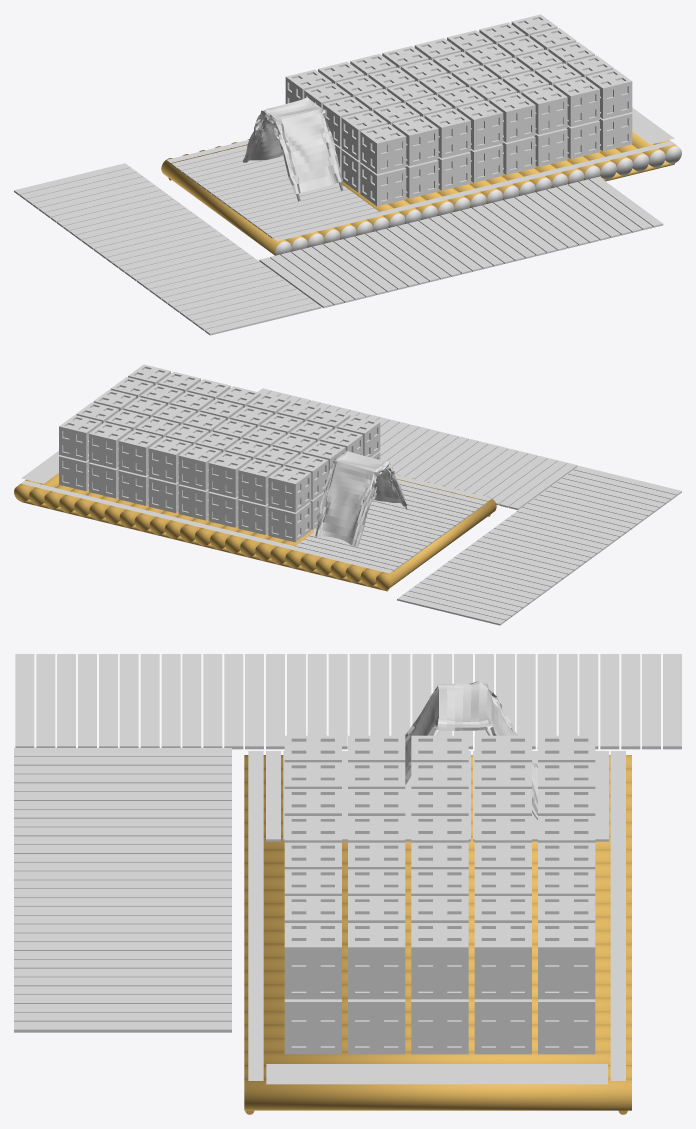
File: raft.fbx
The picture shows the model from 3 angles, top to bottom: view 1: azimuth 30°, elevation 25°; view 2: azimuth 150°, elevation 25°; view 3: azimuth 270°, elevation 25°; orthographic projection. The views are drawn at different scales.
Visible parts, largest first — view 1: Plane.004, Cube, Cylinder.002, Plane.006; view 2: Cube, Plane.004, Cylinder.002, Plane.006; view 3: Plane.004, Cube, Cylinder.002, Plane.006.
Boxes of the visible parts, bbox=[...] form: Plane.004: bbox=[14, 163, 663, 335]; Cube: bbox=[285, 14, 632, 206]; Cylinder.002: bbox=[161, 107, 681, 255]; Plane.006: bbox=[242, 97, 342, 194]; Cube: bbox=[59, 364, 380, 542]; Plane.004: bbox=[258, 388, 681, 625]; Cylinder.002: bbox=[14, 451, 496, 591]; Plane.006: bbox=[313, 451, 407, 546]; Plane.004: bbox=[14, 654, 681, 1032]; Cube: bbox=[284, 735, 595, 1054]; Cylinder.002: bbox=[244, 695, 631, 1114]; Plane.006: bbox=[405, 681, 537, 819].
Size of the model in its own units: 1658 by 261 by 1047.
